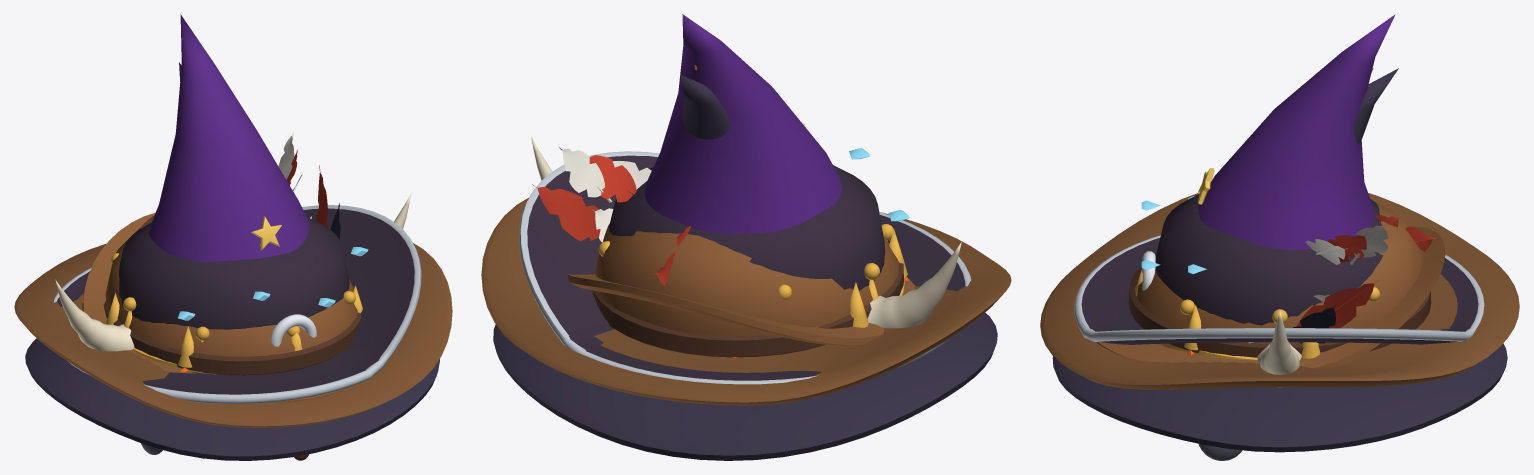
The model's file is forge_hats-DqFoHMd_.glb.
3 views of the same model, side by side, from view 1: azimuth 30°, elevation 25°; view 2: azimuth 150°, elevation 25°; view 3: azimuth 270°, elevation 25° (orthographic). The views are drawn at different scales.
Parts seen in each view (by area): view 1: cavalier__H_feltD, wizardArch__H_feltP, cowboy__H_feltB, seerHat__H_clothD, hunterCap__H_leather, hunterCap__H_leatherD, cavalier__H_steel, hornedHelm__H_bone, ashCrownHelm__H_gold, starCirclet__H_silver, crownGold__H_gold, starCirclet__M_gIce (+3 smaller); view 2: seerHat__H_clothD, cowboy__H_feltB, cavalier__H_feltD, wizardArch__H_feltP, hunterCap__H_leather, hunterCap__H_leatherD, cavalier__H_steel, hornedHelm__H_bone, hunterCap__H_featherR, cavalier__H_featherW, cavalier__H_featherR, ashCrownHelm__H_gold (+1 smaller); view 3: cowboy__H_feltB, seerHat__H_clothD, wizardArch__H_feltP, cavalier__H_feltD, hunterCap__H_leather, cavalier__H_steel, hunterCap__H_leatherD, hornedHelm__H_bone, hunterCap__H_featherR, cavalier__H_featherW, ashCrownHelm__H_gold, cavalier__H_featherR (+2 smaller).
Boxes of the visible parts, <box> form: cavalier__H_feltD: <box>56,208,414,394</box>; wizardArch__H_feltP: <box>148,14,309,261</box>; cowboy__H_feltB: <box>14,243,452,427</box>; seerHat__H_clothD: <box>25,62,439,460</box>; hunterCap__H_leather: <box>82,212,357,402</box>; hunterCap__H_leatherD: <box>103,300,361,375</box>; cavalier__H_steel: <box>54,205,421,403</box>; hornedHelm__H_bone: <box>55,193,411,351</box>; ashCrownHelm__H_gold: <box>106,285,362,374</box>; starCirclet__H_silver: <box>270,314,316,346</box>; crownGold__H_gold: <box>111,253,355,342</box>; starCirclet__M_gIce: <box>178,247,368,320</box>; seerHat__H_clothD: <box>493,75,997,460</box>; cowboy__H_feltB: <box>481,198,1011,405</box>; cavalier__H_feltD: <box>527,155,965,380</box>; wizardArch__H_feltP: <box>644,14,841,233</box>; hunterCap__H_leather: <box>568,223,915,345</box>; hunterCap__H_leatherD: <box>592,239,903,357</box>; cavalier__H_steel: <box>519,151,971,384</box>; hornedHelm__H_bone: <box>531,136,961,328</box>; hunterCap__H_featherR: <box>532,184,600,241</box>; cavalier__H_featherW: <box>559,147,651,202</box>; cavalier__H_featherR: <box>589,155,636,202</box>; ashCrownHelm__H_gold: <box>599,229,907,327</box>; cowboy__H_feltB: <box>1040,193,1519,389</box>; seerHat__H_clothD: <box>1052,68,1507,452</box>; wizardArch__H_feltP: <box>1198,14,1395,249</box>; cavalier__H_feltD: <box>1081,194,1478,344</box>; hunterCap__H_leather: <box>1096,203,1445,368</box>; cavalier__H_steel: <box>1074,235,1484,343</box>; hunterCap__H_leatherD: <box>1128,266,1431,357</box>; hornedHelm__H_bone: <box>1257,310,1301,387</box>; hunterCap__H_featherR: <box>1296,279,1379,328</box>; cavalier__H_featherW: <box>1305,225,1388,264</box>; ashCrownHelm__H_gold: <box>1135,270,1320,360</box>; cavalier__H_featherR: <box>1328,235,1366,262</box>.
Size of the model in its own units: 2.13 by 1.92 by 2.13.
